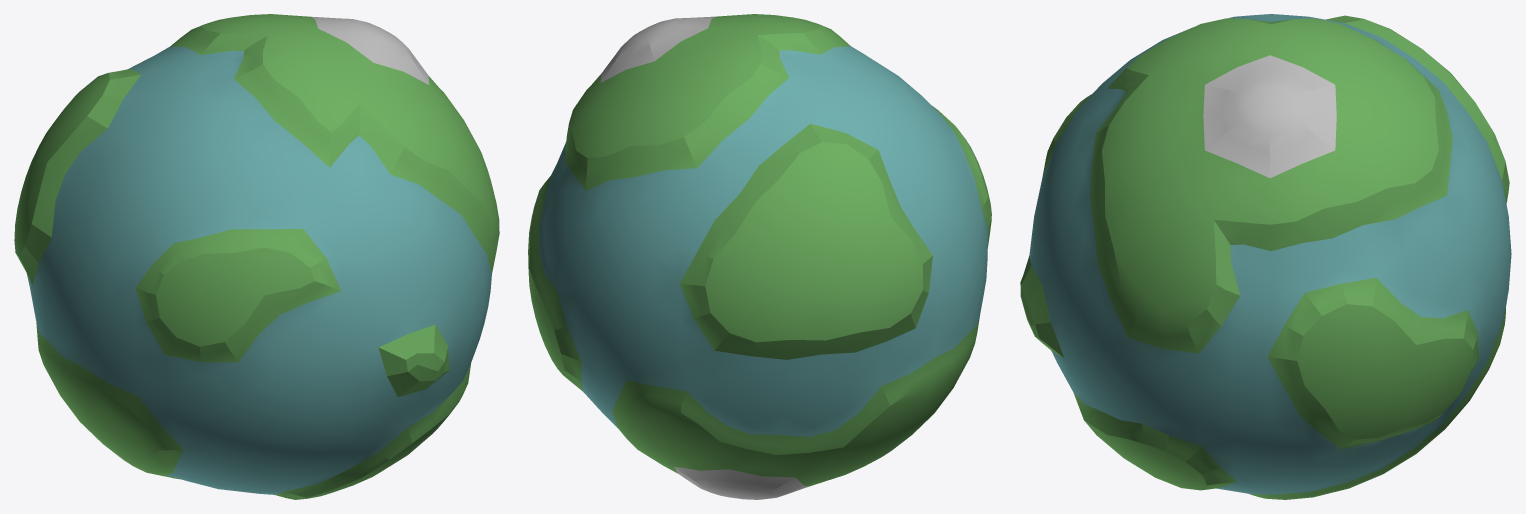
File: Planet_1.gltf
The picture shows the model from 3 angles, left to right: view 1: azimuth 30°, elevation 25°; view 2: azimuth 150°, elevation 25°; view 3: azimuth 270°, elevation 25°; orthographic projection. The views are drawn at different scales.
Visible parts, largest first — view 1: Planet_1; view 2: Planet_1; view 3: Planet_1.
Part boxes in pixels (x1=…): Planet_1: x1=14, y1=14, x2=499, y2=499; Planet_1: x1=528, y1=14, x2=991, y2=499; Planet_1: x1=1020, y1=14, x2=1511, y2=499.
Bounding box in the file's own units: 3.78 × 3.93 × 3.8.
Materials: 1 (1 with a texture image).
